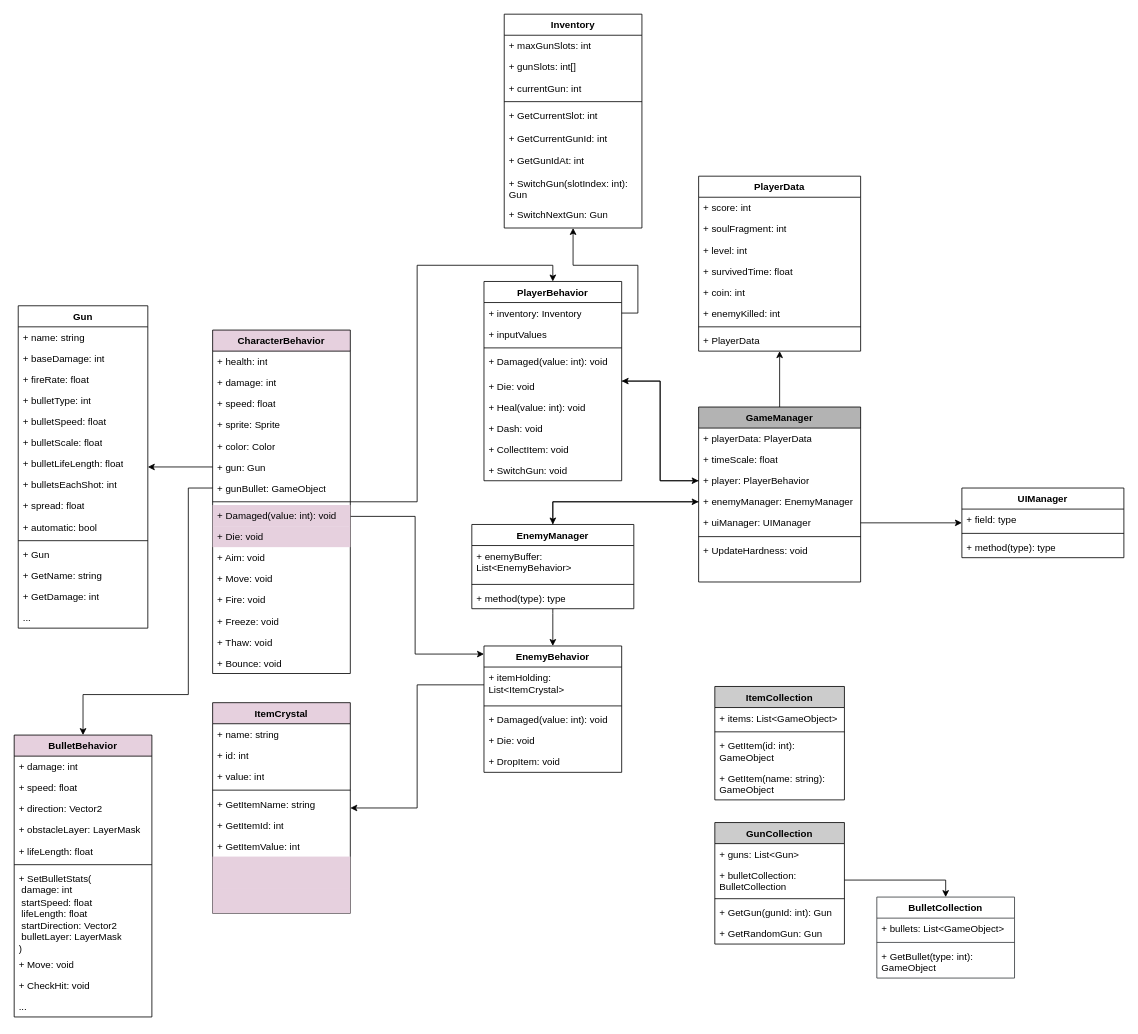
Image size: 1138x1034. Some labels were removed from this diagram. Here are the shapes that lost their labels. From the top down, the centre of each, then its label:
At [281,872]: "+ SetItemValue(value: int): void".
At [281,901]: "+ BreakCrystal: void".
